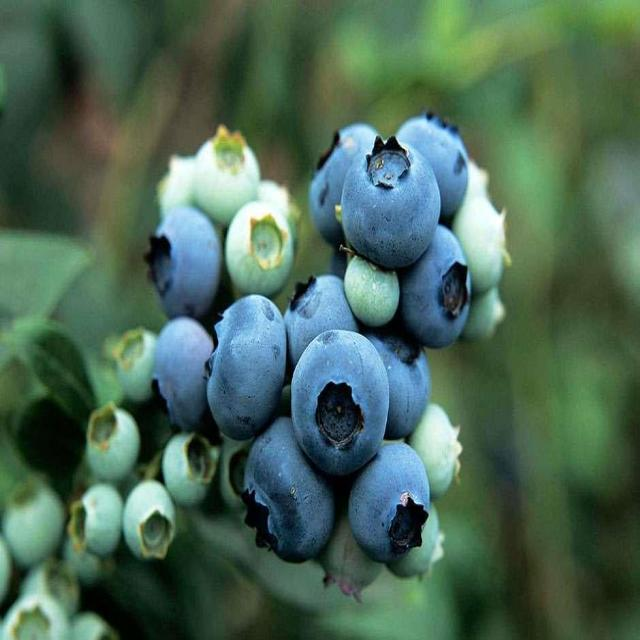BlueBerry - v1: (240, 407, 348, 576), (286, 320, 396, 480), (197, 280, 295, 455), (336, 128, 450, 272), (342, 427, 441, 568), (137, 193, 238, 330), (391, 98, 476, 241), (301, 113, 389, 240), (358, 316, 443, 444), (218, 190, 312, 303), (145, 310, 223, 445), (402, 221, 479, 355), (278, 264, 356, 384), (185, 124, 270, 234), (2, 468, 78, 586), (450, 188, 520, 300), (405, 397, 481, 499), (116, 469, 190, 562), (67, 476, 139, 568), (334, 239, 404, 333), (82, 399, 151, 491), (115, 311, 177, 408), (158, 422, 224, 512), (468, 276, 517, 372), (1, 591, 90, 640)
